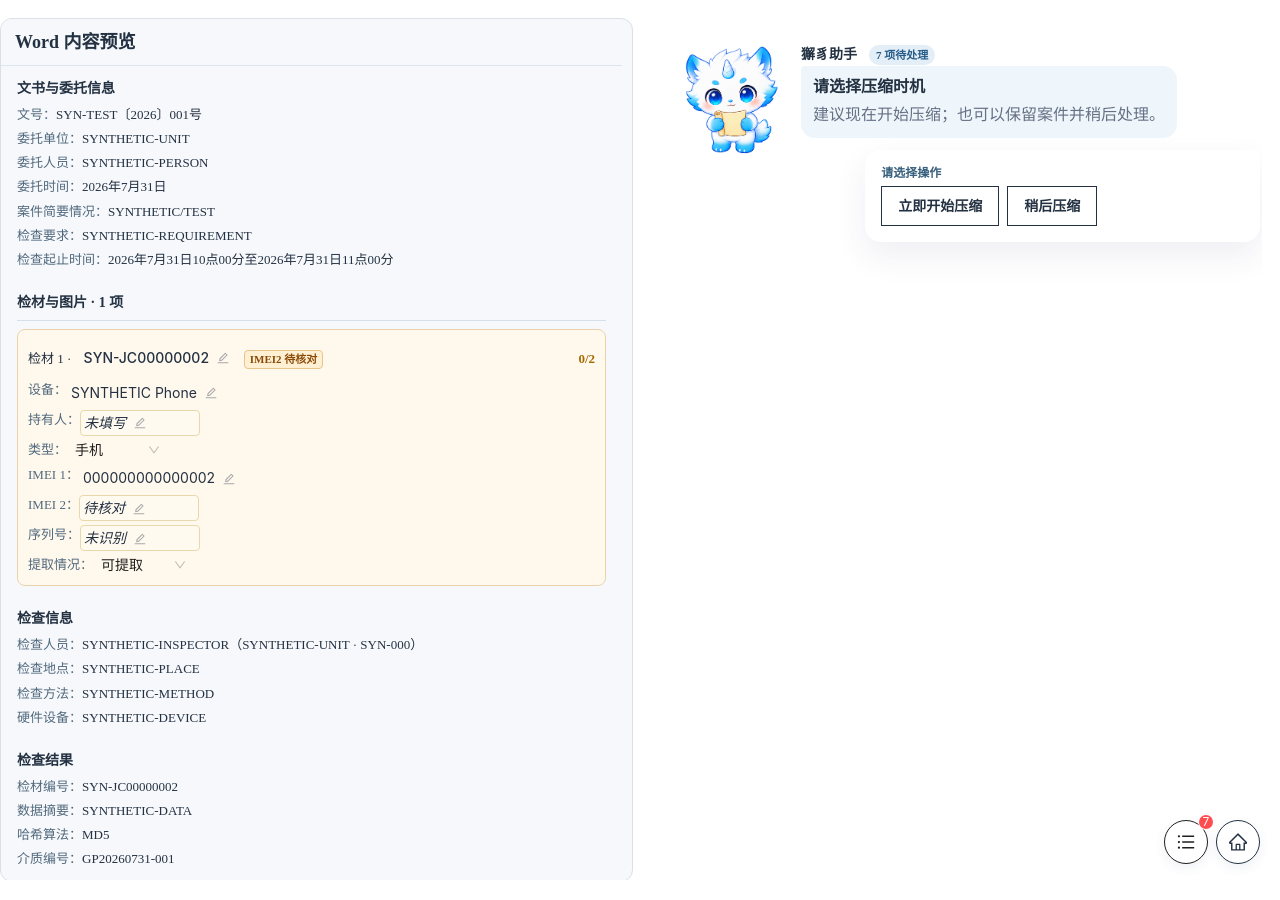
Test: CaseRecordGeneratePage archive decision coordination › keeps one usable photo page when photo binding needs recovery
Click the button named "查看已填内容与待办". click: (1186, 842)
box: left=1164, top=820, right=1208, bottom=864
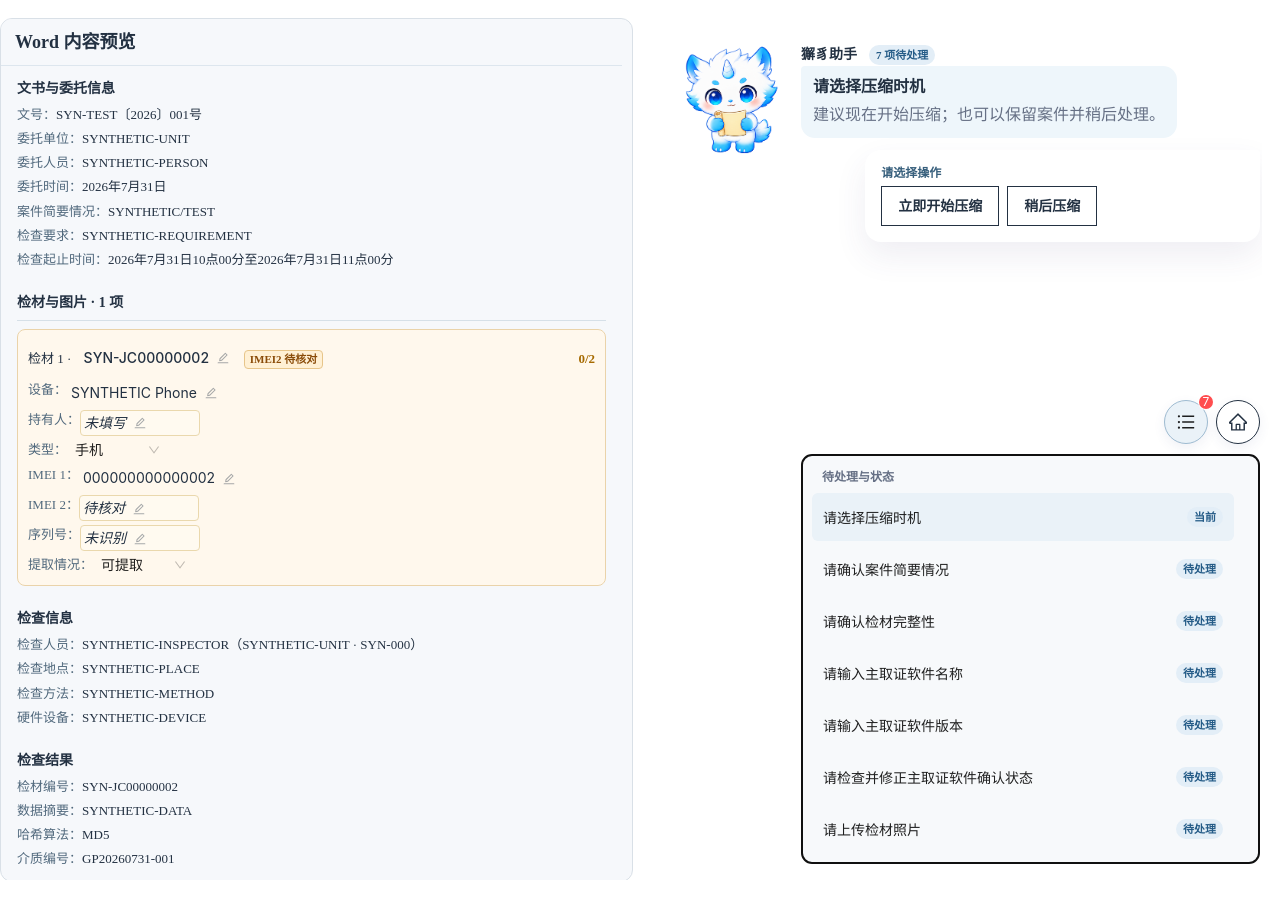
Click the button "请上传检材照片 待处理". click: (872, 830)
box: left=812, top=805, right=1234, bottom=853
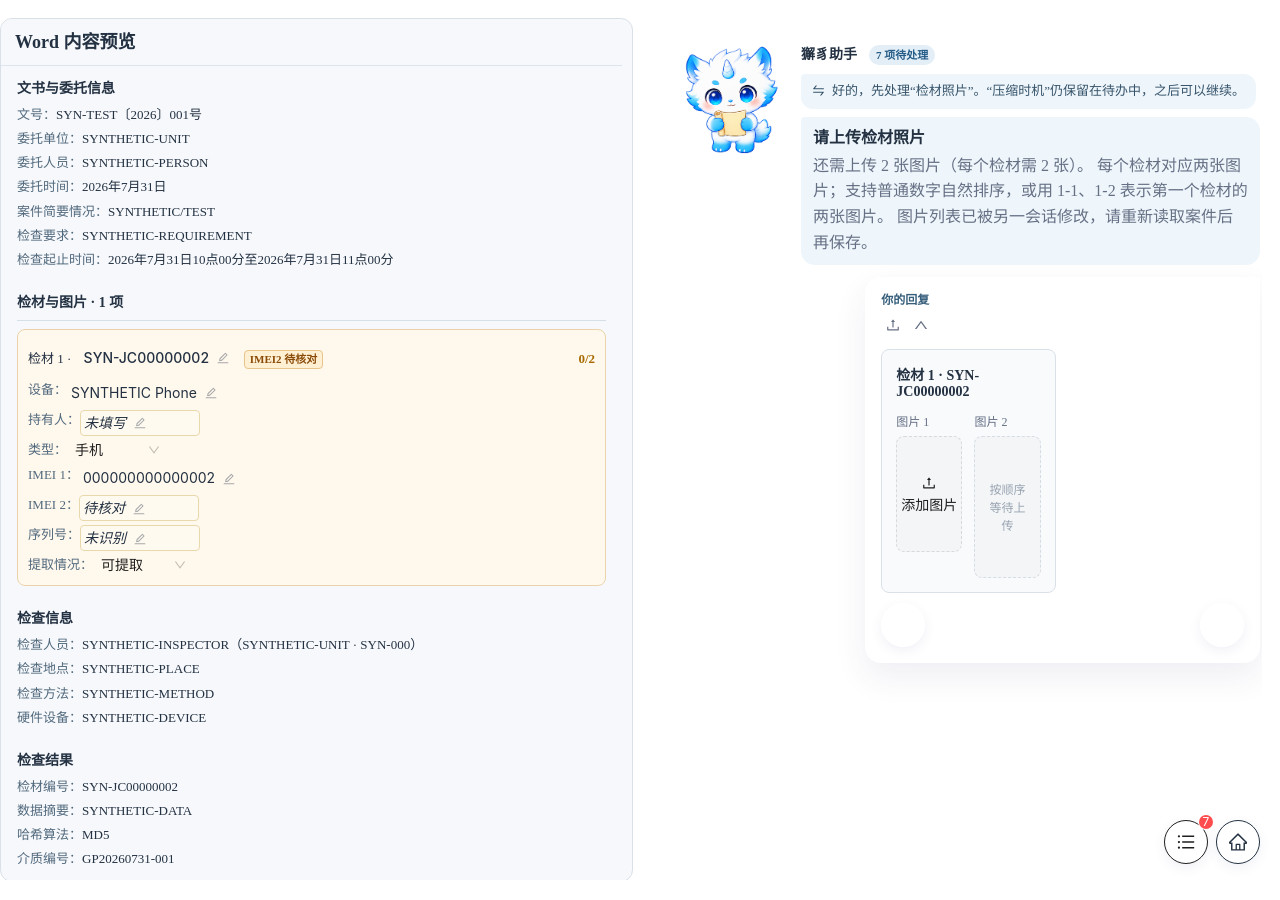
Expected: the message named "獬豸助手提示" shows "图片列表已被另一会话修改，请重新读取案件后再保存。", left=813, top=157, right=1248, bottom=251
Expected: the message named "獬豸助手提示" shows "每个检材对应两张图片；支持普通数字自然排序，或用 1-1、1-2 表示第一个检材的两张图片。", left=813, top=157, right=1248, bottom=251
Expected: the button named "批量导入图片" is shown, left=881, top=313, right=905, bottom=337
Click the button named "查看已填内容与待办". click: (1186, 842)
box: left=1164, top=820, right=1208, bottom=864
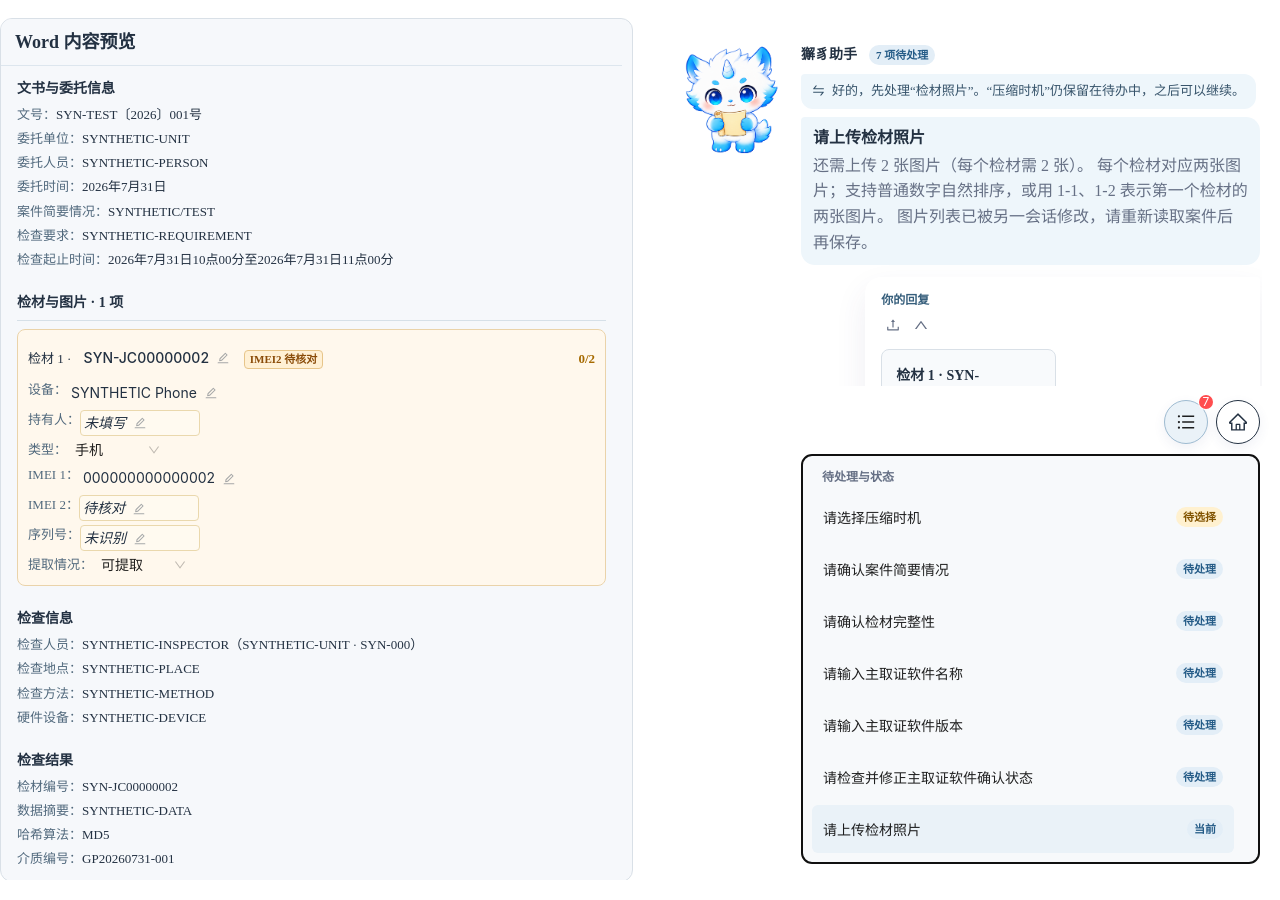
Expected: the text "请上传检材照片" is shown once, left=823, top=819, right=921, bottom=839
